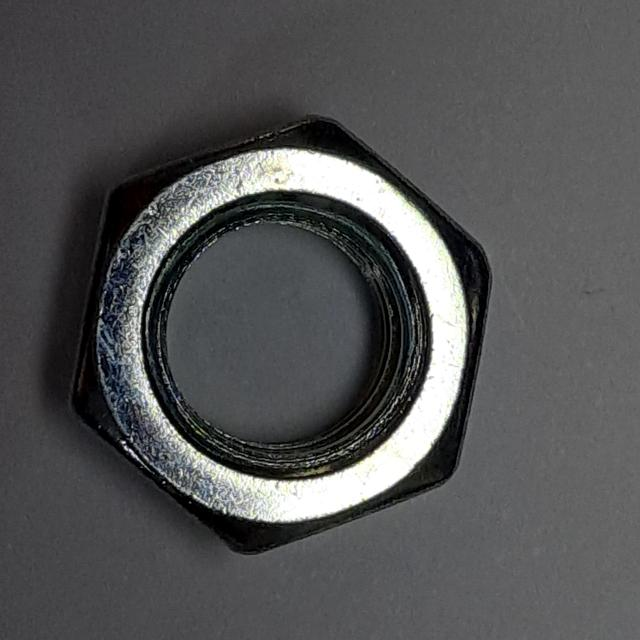Excellent: (53, 104, 505, 567)
